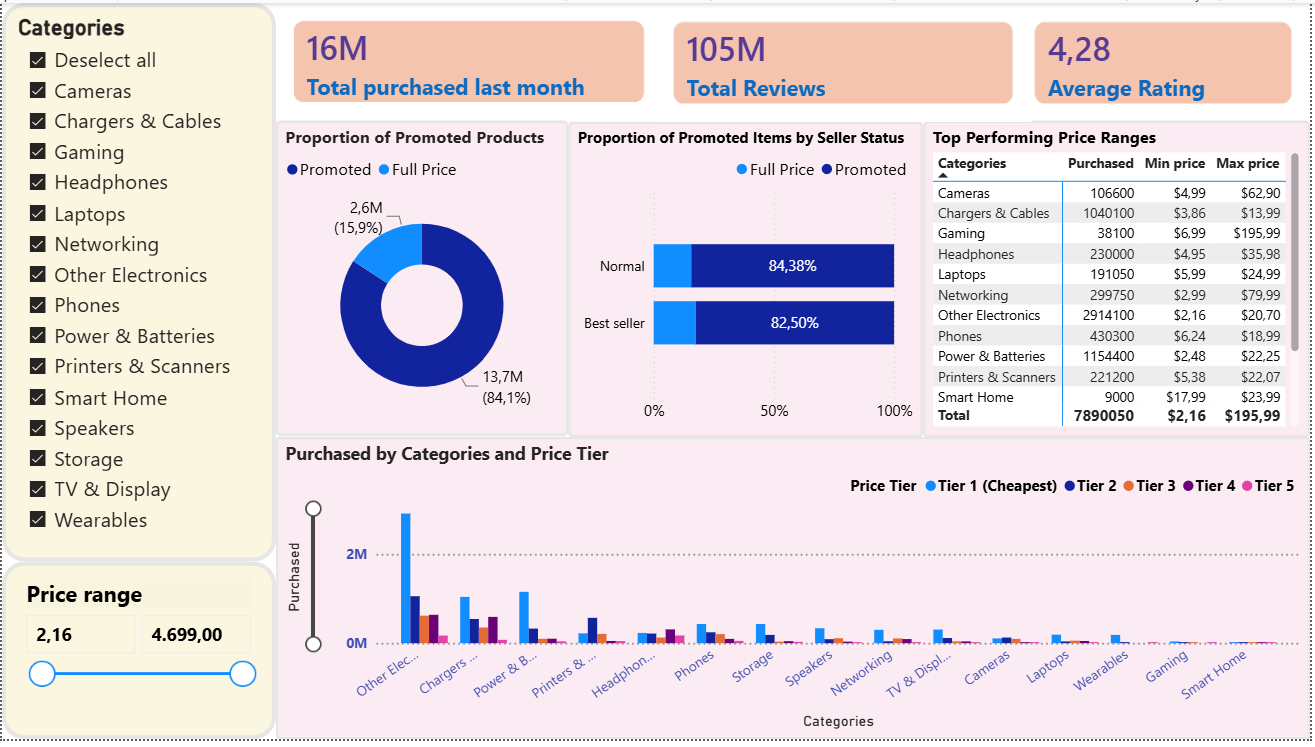

What the dashboard file says about the page in this screenshot:
{"tool":"powerbi","page":{"name":"Page 1","canvas":[1280,720],"ordinal":0},"visuals":[{"type":"listSlicer","title":"Categories","fields":{"Values":["amazon_sales_db dim_categories.category_name"]},"box":[0,0,267.8,546.6],"z":0},{"type":"slicer","fields":{"Values":["amazon_sales_db fact_sales.final_price"]},"box":[0,546.6,267.8,173.6],"z":1000},{"type":"clusteredColumnChart","fields":{"Category":["amazon_sales_db dim_categories.category_name"],"Y":["Sum(amazon_sales_db fact_sales.purchased_last_month)"],"Series":["amazon_sales_db fact_sales.Price Tier"]},"box":[267.6,424,1012.7,296.4],"z":2000},{"type":"donutChart","title":"Proportion of Promoted Products","fields":{"Category":["amazon_sales_db fact_sales.is_promoted"],"Y":["Sum(amazon_sales_db fact_sales.purchased_last_month)"]},"box":[267.6,115.3,286.8,308.7],"z":3000},{"type":"hundredPercentStackedBarChart","title":"Proportion of Promoted Items by Seller Status","fields":{"Category":["amazon_sales_db fact_sales.Best_seller"],"Y":["Sum(amazon_sales_db fact_sales.purchased_last_month)"],"Series":["amazon_sales_db fact_sales.is_promoted"]},"box":[554.4,116.6,347.2,308.7],"z":3003},{"type":"cardVisual","fields":{"Data":["Sum(amazon_sales_db fact_sales.purchased_last_month)"]},"box":[267.6,0,378.7,115.3],"z":3004},{"type":"pivotTable","title":"Top Performing Price Ranges","fields":{"Rows":["amazon_sales_db dim_categories.category_name","amazon_sales_db fact_sales.Price Tier"],"Values":["Sum(amazon_sales_db fact_sales.purchased_last_month)","Min(amazon_sales_db fact_sales.final_price)","Max(amazon_sales_db fact_sales.final_price)"]},"box":[901.5,115.3,378.7,310.1],"z":3005},{"type":"cardVisual","fields":{"Data":["Avg(amazon_sales_db fact_sales.product_rating)"]},"box":[993.5,1.4,286.8,115.3],"z":3006},{"type":"cardVisual","fields":{"Data":["Sum(amazon_sales_db fact_sales.total_reviews)"]},"box":[639.5,1.4,367.8,115.3],"z":3007}]}

Visuals, with their boxes in screenshot pixels (x1, y1, x2, y2), scaled from the page's 1280x720 canvas onto the 1315x747 screenshot:
"Categories" listSlicer: Rect(0, 0, 275, 567)
slicer - amazon_sales_db fact_sales.final_price: Rect(0, 567, 275, 746)
clusteredColumnChart - amazon_sales_db dim_categories.category_name x Sum(amazon_sales_db fact_sales.purchased_last_month): Rect(275, 440, 1314, 746)
"Proportion of Promoted Products" donutChart: Rect(275, 120, 570, 440)
"Proportion of Promoted Items by Seller Status" hundredPercentStackedBarChart: Rect(570, 121, 926, 441)
cardVisual - Sum(amazon_sales_db fact_sales.purchased_last_month): Rect(275, 0, 664, 120)
"Top Performing Price Ranges" pivotTable: Rect(926, 120, 1314, 441)
cardVisual - Avg(amazon_sales_db fact_sales.product_rating): Rect(1021, 1, 1314, 121)
cardVisual - Sum(amazon_sales_db fact_sales.total_reviews): Rect(657, 1, 1035, 121)
